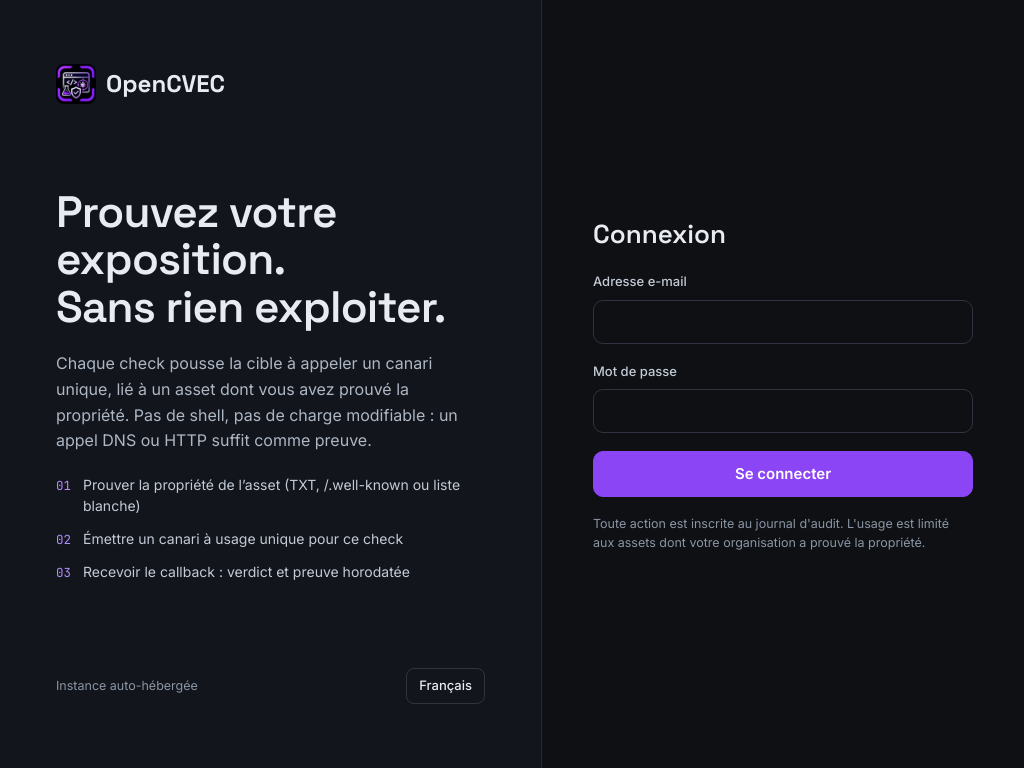
Test: Login › passe à l’étape TOTP quand le serveur la demande
In the field labelled "Adresse e-mail": [783, 322] box [593,300,973,344], type "a@b.fr"
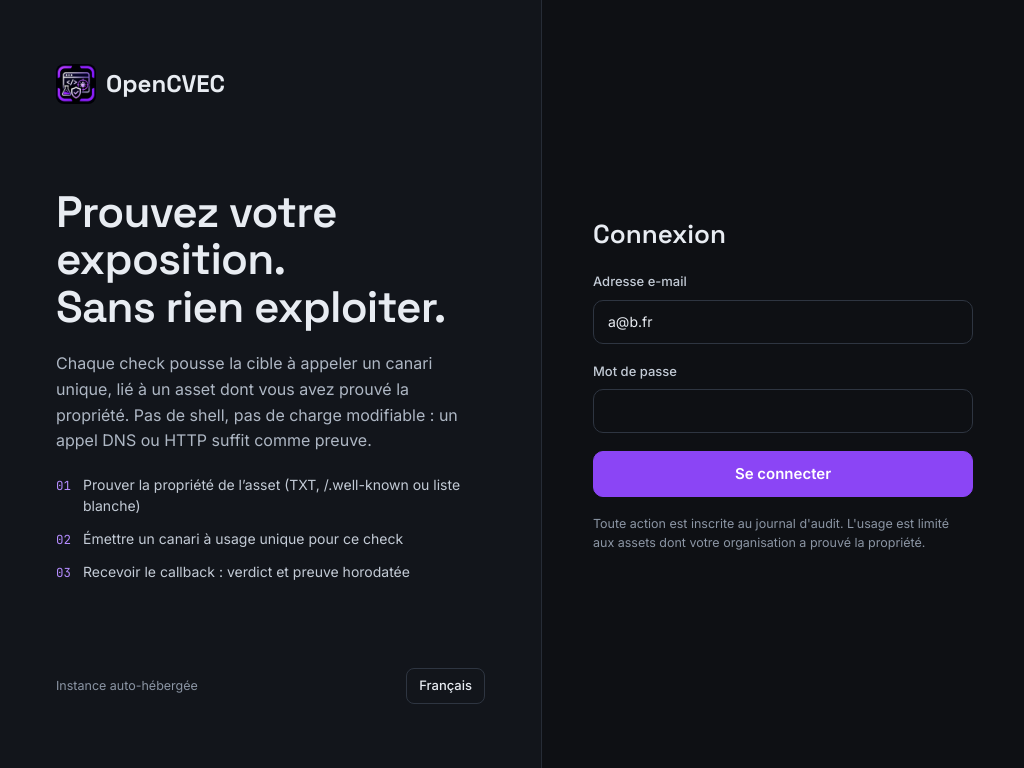
In the password field labelled "Mot de passe": [783, 411] box [593,389,973,433], type "x"
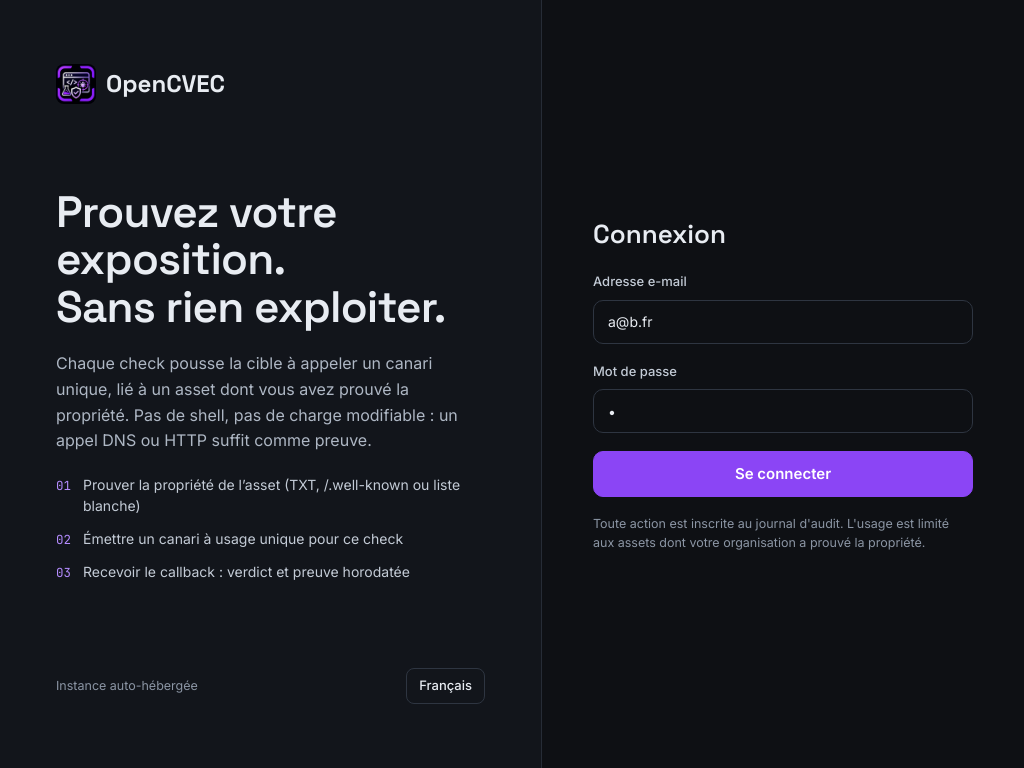
Click the button "Se connecter": [783, 474] box [593,451,973,497]
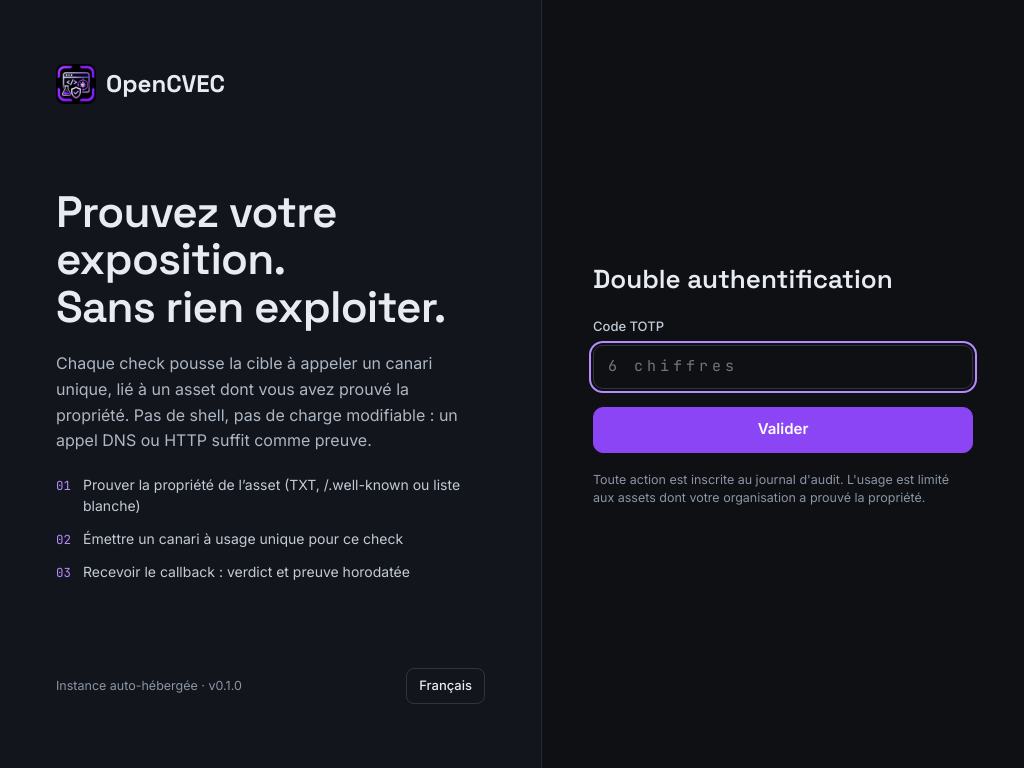
expect the field labelled "Code TOTP" is shown: met, box [593,344,973,388]
